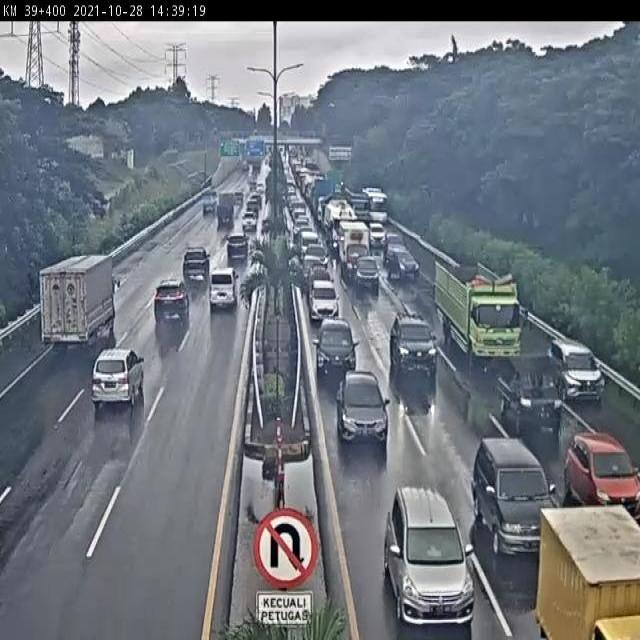car: (383, 488, 473, 625), (476, 438, 559, 554), (567, 432, 640, 517), (338, 372, 389, 439), (551, 343, 606, 401), (389, 312, 437, 373), (92, 352, 145, 407), (315, 317, 358, 379), (152, 278, 188, 322), (209, 268, 240, 311), (310, 276, 339, 321), (381, 248, 420, 280), (182, 246, 213, 282), (354, 255, 379, 285), (223, 238, 247, 266), (382, 229, 407, 255), (303, 253, 324, 280), (307, 264, 331, 285), (305, 244, 328, 265)
mid truck: (439, 264, 523, 361), (42, 254, 115, 346)
small truck: (495, 355, 558, 424), (340, 224, 370, 271)
